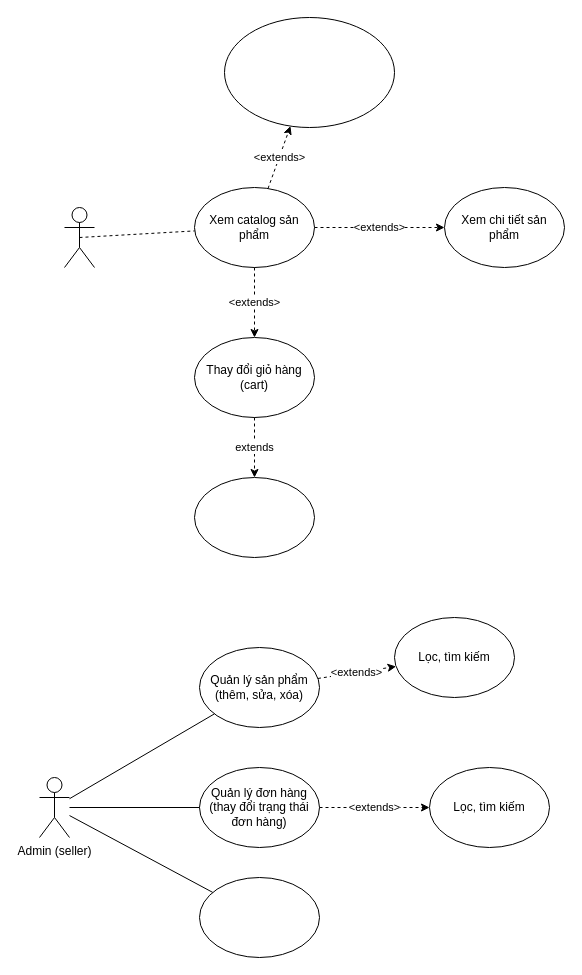
Some shapes in this 582 by 975 pixel diagram are drawn without their labels. Each missing label, with the centre of its shape:
"Chốt đơn (tạo đơn hàng)" goes at point (254, 517).
"Customer" goes at point (79, 237).
"Lọc sẩn phẩm theo tên sản phẩm, mã, khoảng giá, phân loại ngành hàng" goes at point (309, 72).
"Thống kê" goes at point (259, 917).
